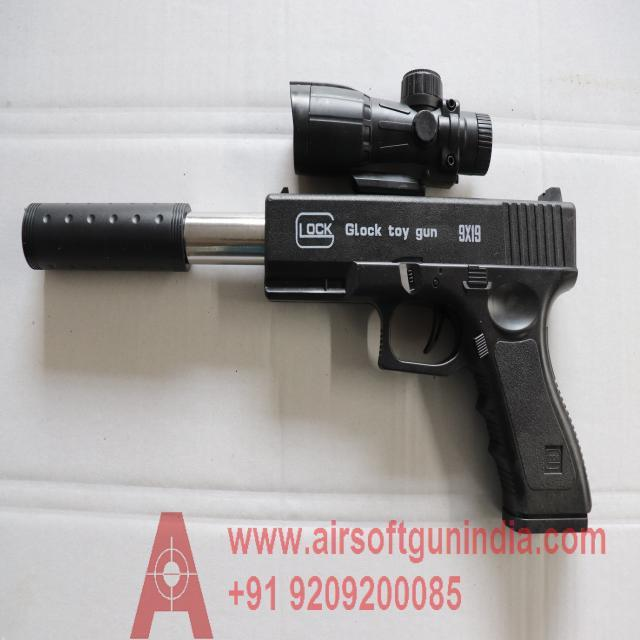handgun: (19, 57, 597, 541)
